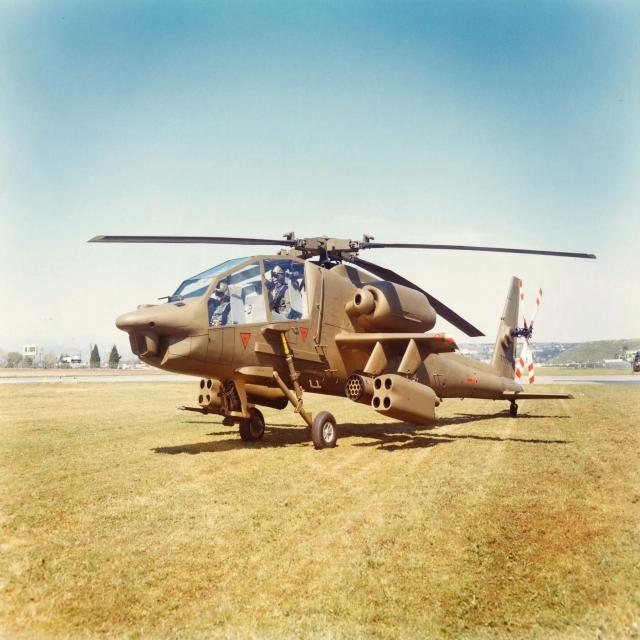MIL_HELO: (71, 217, 593, 459)
